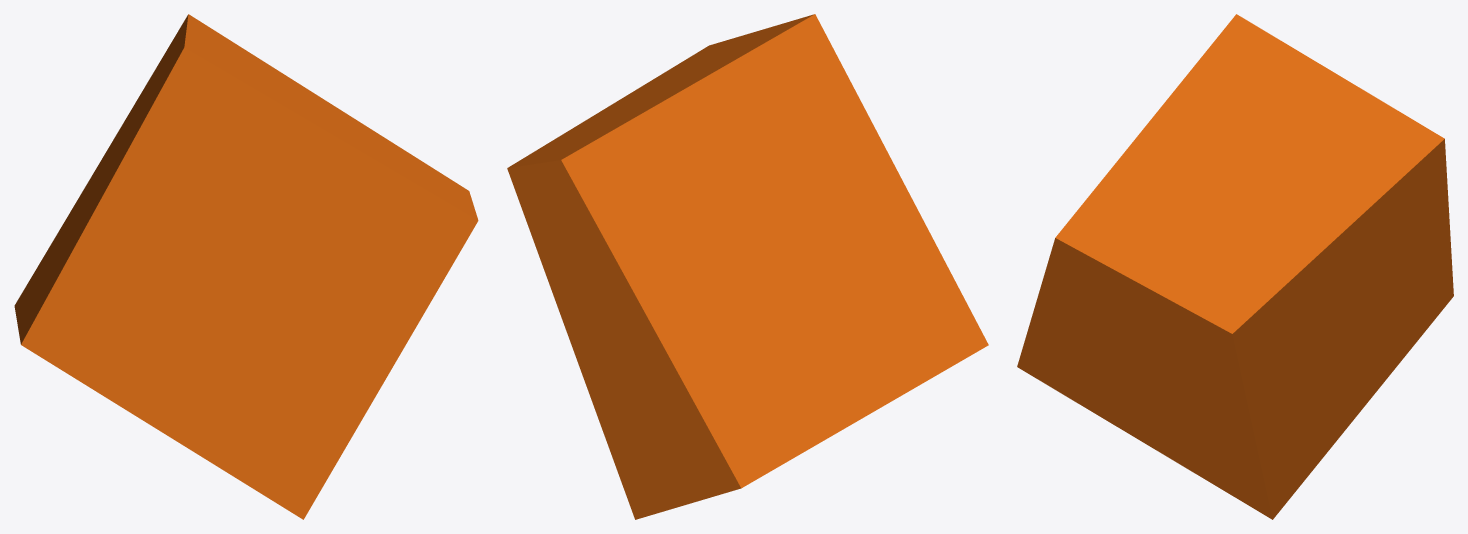
Rendered from lava_brick_02.fbx.
The picture shows the model from 3 angles, left to right: view 1: azimuth 30°, elevation 25°; view 2: azimuth 150°, elevation 25°; view 3: azimuth 270°, elevation 25°; orthographic projection. The views are drawn at different scales.
Parts seen in each view (by area): view 1: lava_brick_02; view 2: lava_brick_02; view 3: lava_brick_02.
Boxes of the visible parts, x1,y1,x2,y2 form: lava_brick_02: (14,14,478,519); lava_brick_02: (507,14,988,519); lava_brick_02: (1017,14,1453,519).
Size of the model in its own units: 106 by 110 by 98.68.
